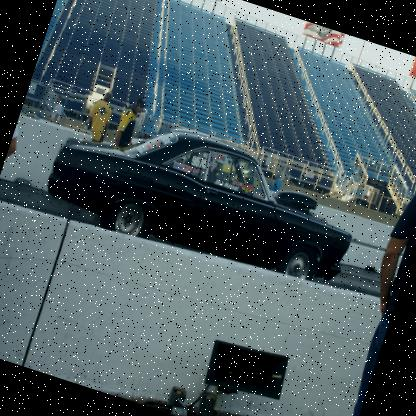Car: (39, 92, 372, 304)
